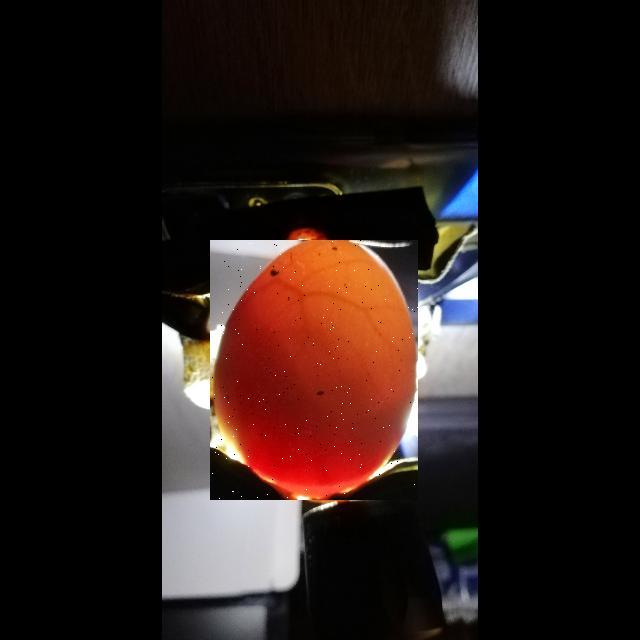Fertile: (210, 240, 418, 500)
